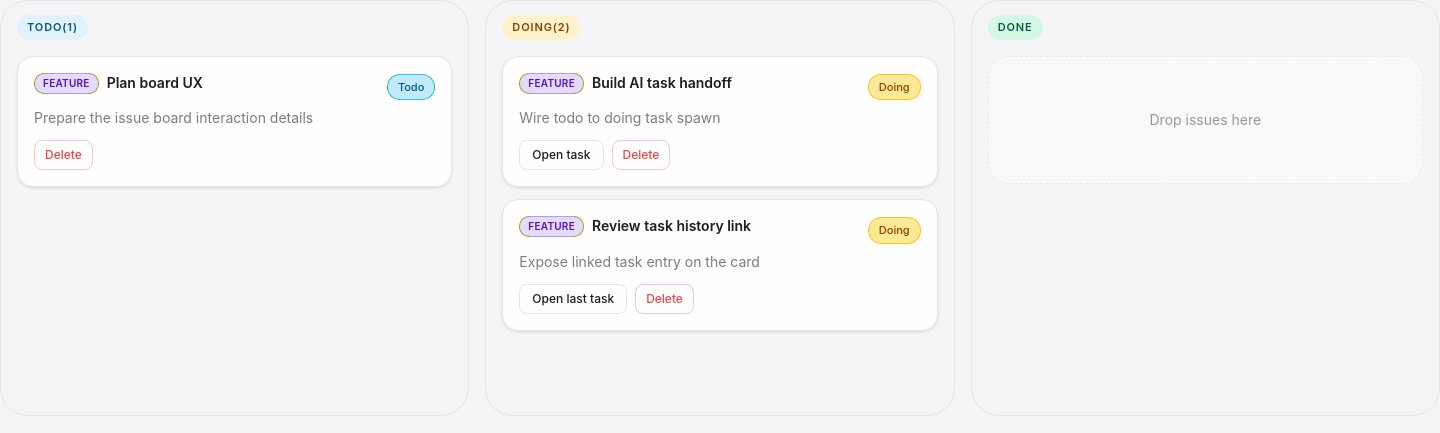
Test: IssueBoard › exits delete confirmation when clicking elsewhere in the same issue card
Click the button with aria-label "Delete issue Plan board UX": (63, 155) [34,140,93,170]
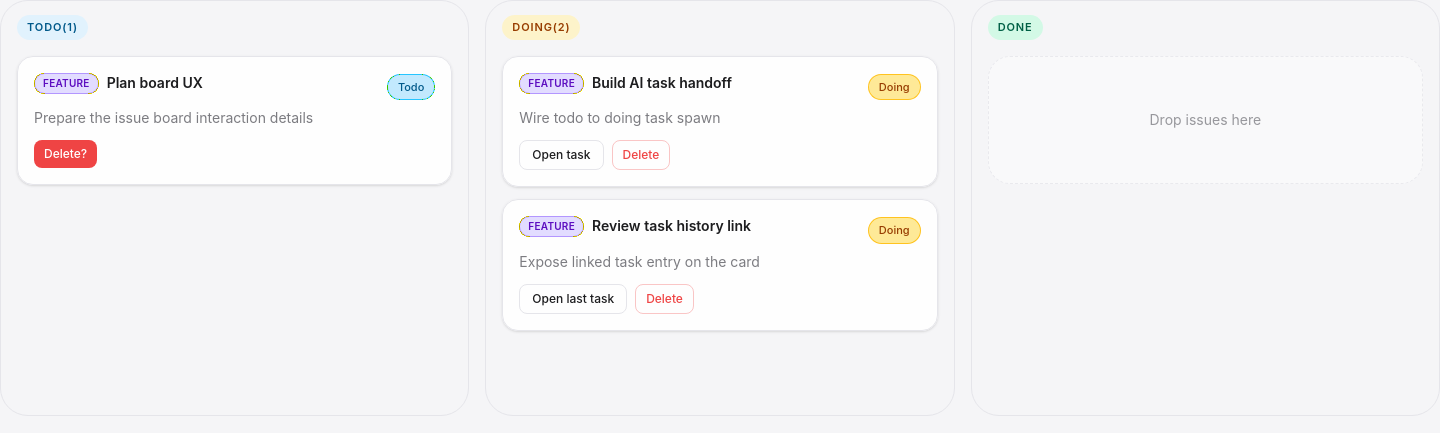
Check: the button with aria-label "Confirm deleting Plan board UX" reads "Delete?", box [34,140,97,168]
Press the mouse on the heading "Plan board UX": (155, 82) [107,74,203,90]
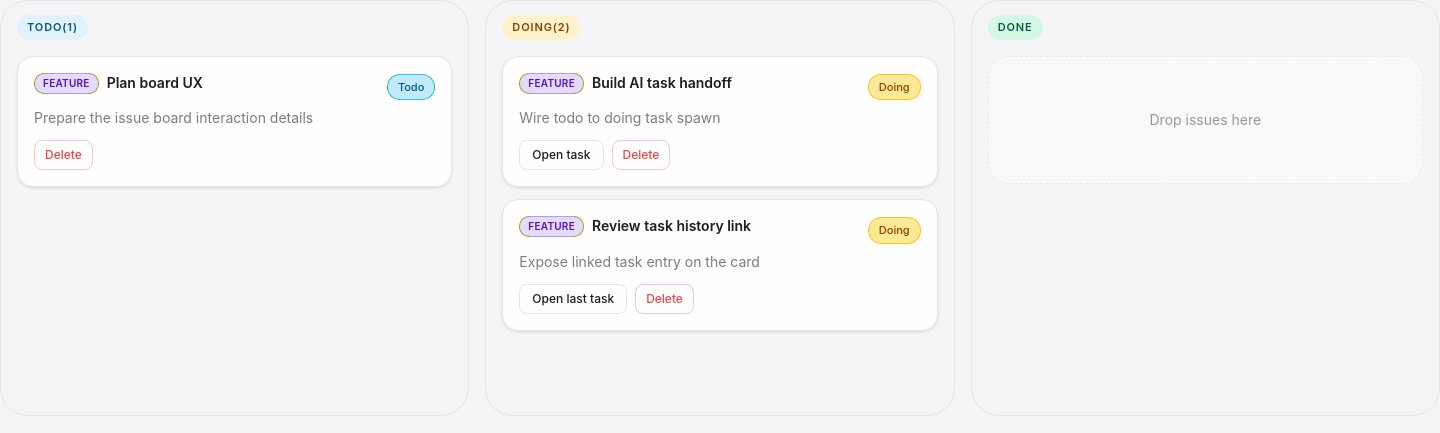
Check: the button with aria-label "Delete issue Plan board UX" is shown, box [34,140,93,170]
